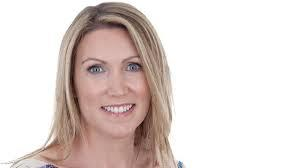normalEye: (84, 59, 144, 79)
normalMouth: (99, 101, 139, 119)
